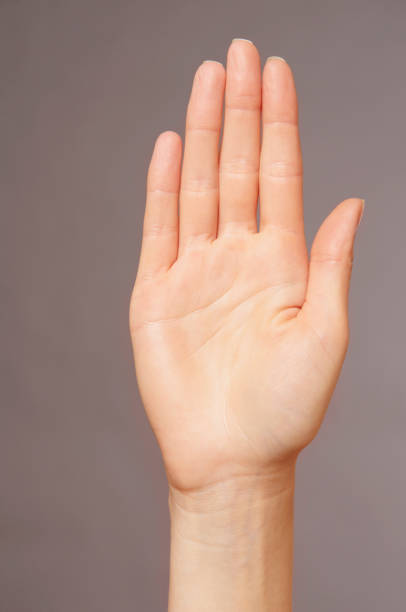non-diseased: (134, 44, 363, 476)
